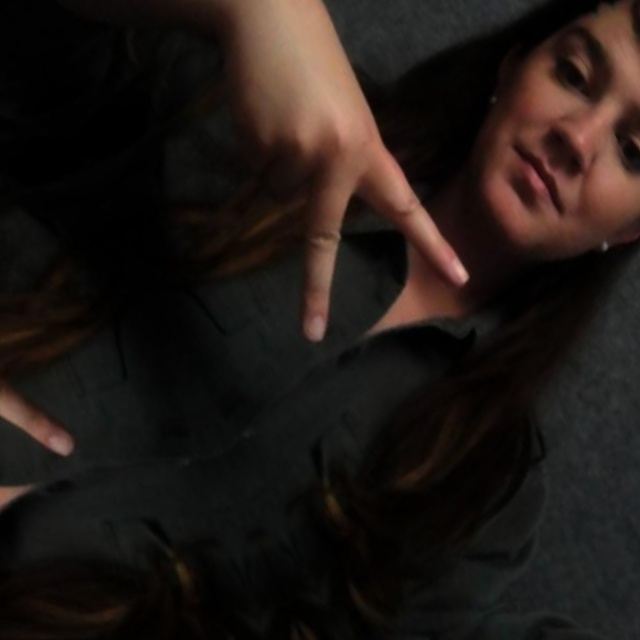Scissors: (107, 0, 517, 416)
